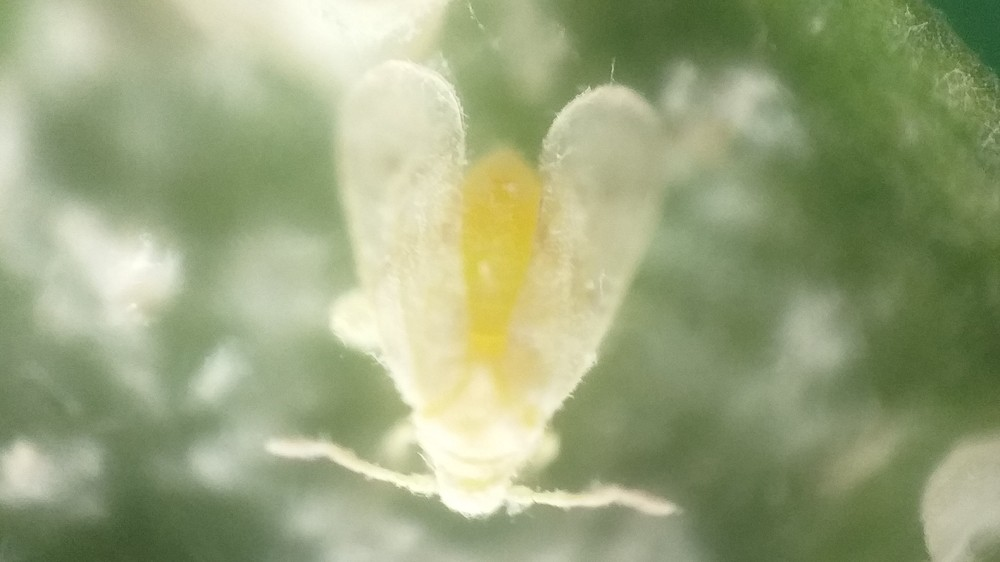Mosca Blanca: (272, 49, 707, 549)
